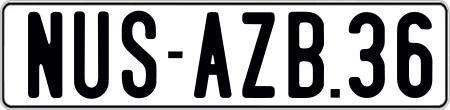3: (348, 12, 388, 101)
6: (397, 12, 433, 99)
A: (193, 9, 232, 98)
B: (287, 9, 327, 95)
N: (27, 10, 66, 100)
S: (120, 10, 159, 97)
U: (72, 9, 107, 100)
Z: (240, 11, 276, 98)
